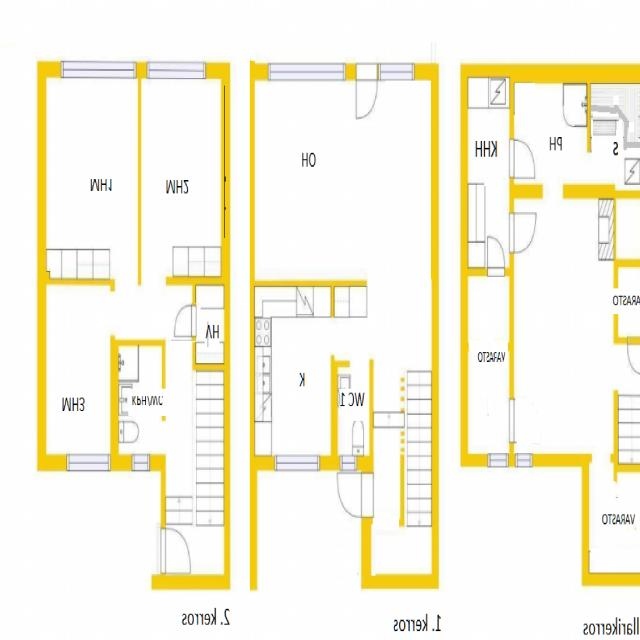door: (337, 473, 373, 517), (162, 528, 190, 573), (110, 291, 138, 334), (357, 63, 378, 119), (516, 143, 542, 181), (544, 184, 564, 233), (143, 240, 164, 284), (484, 184, 504, 229), (116, 242, 136, 284), (592, 421, 610, 462), (569, 149, 591, 182), (175, 306, 196, 336), (627, 337, 640, 374)
